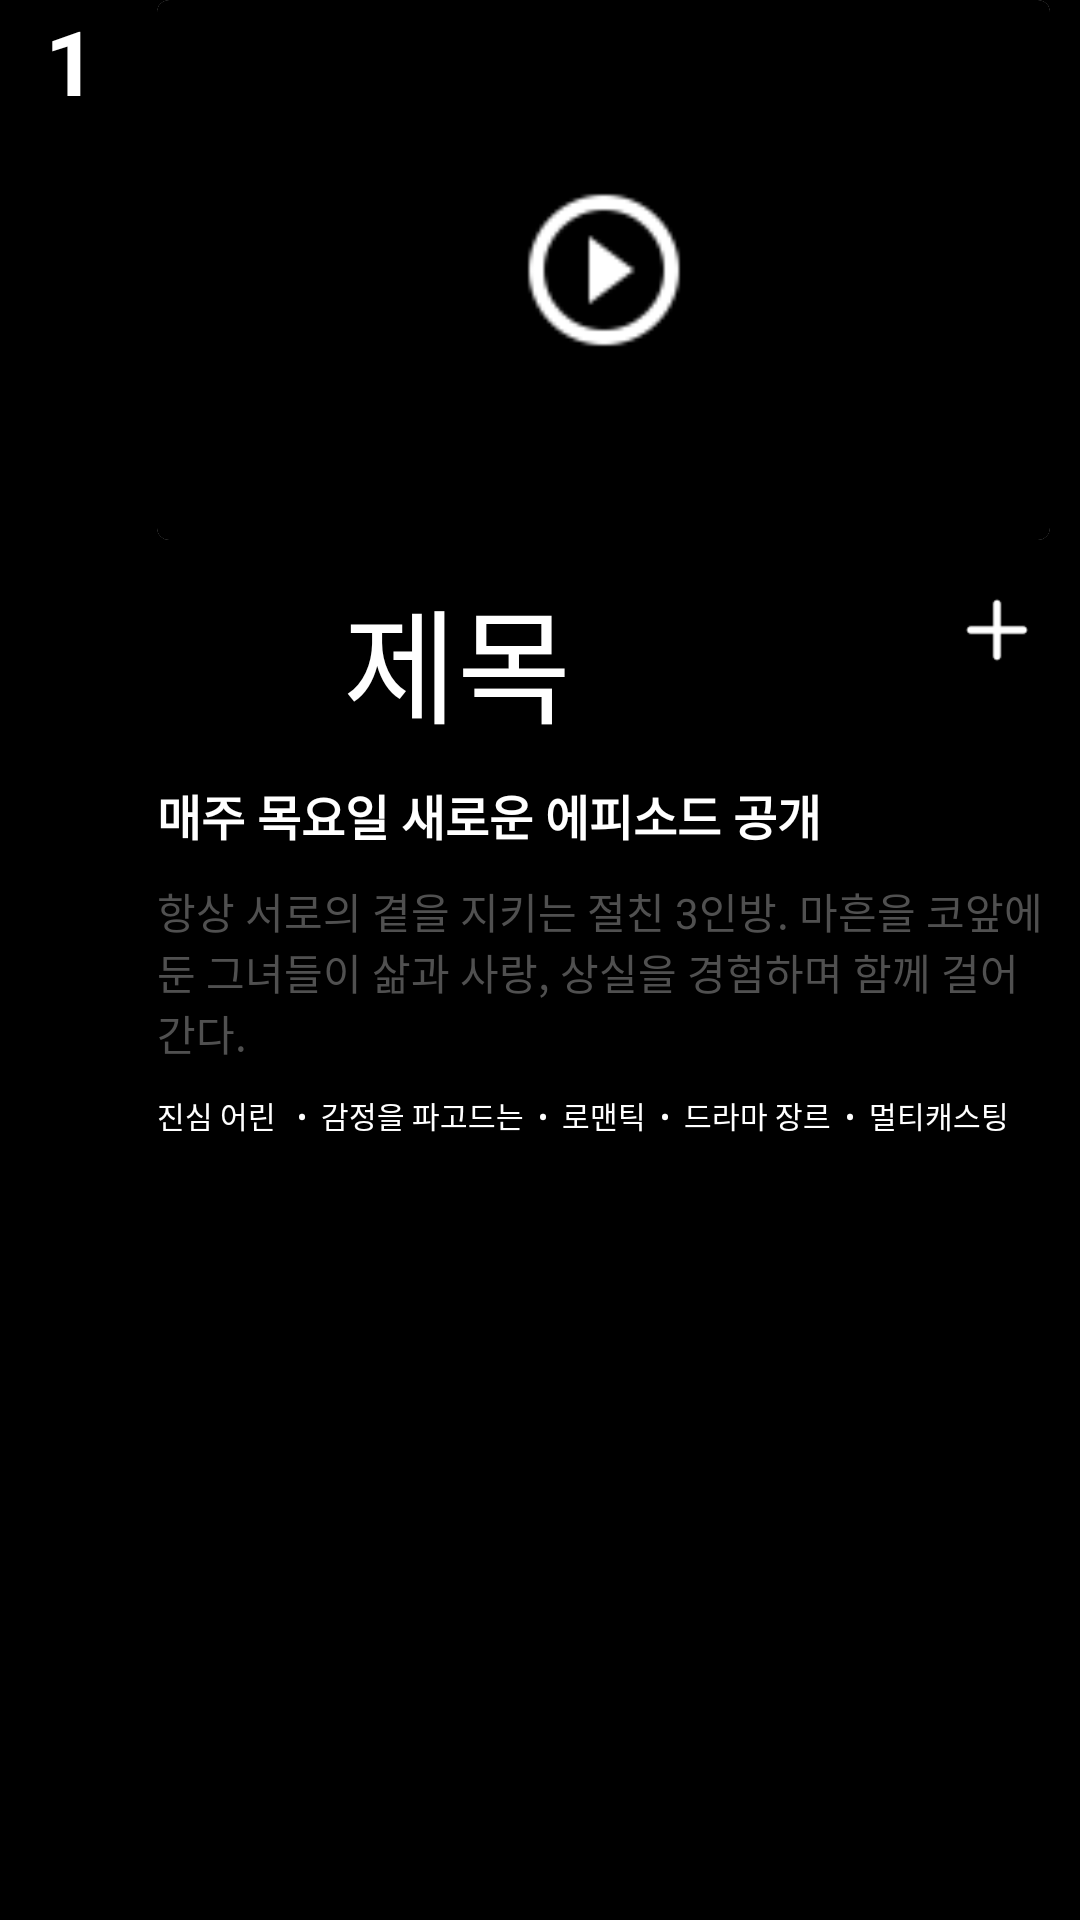

Point at icon controls on the screen. Image size 1080*1920, points as [x,y].
add: [997,630]
playing: [604,270]
